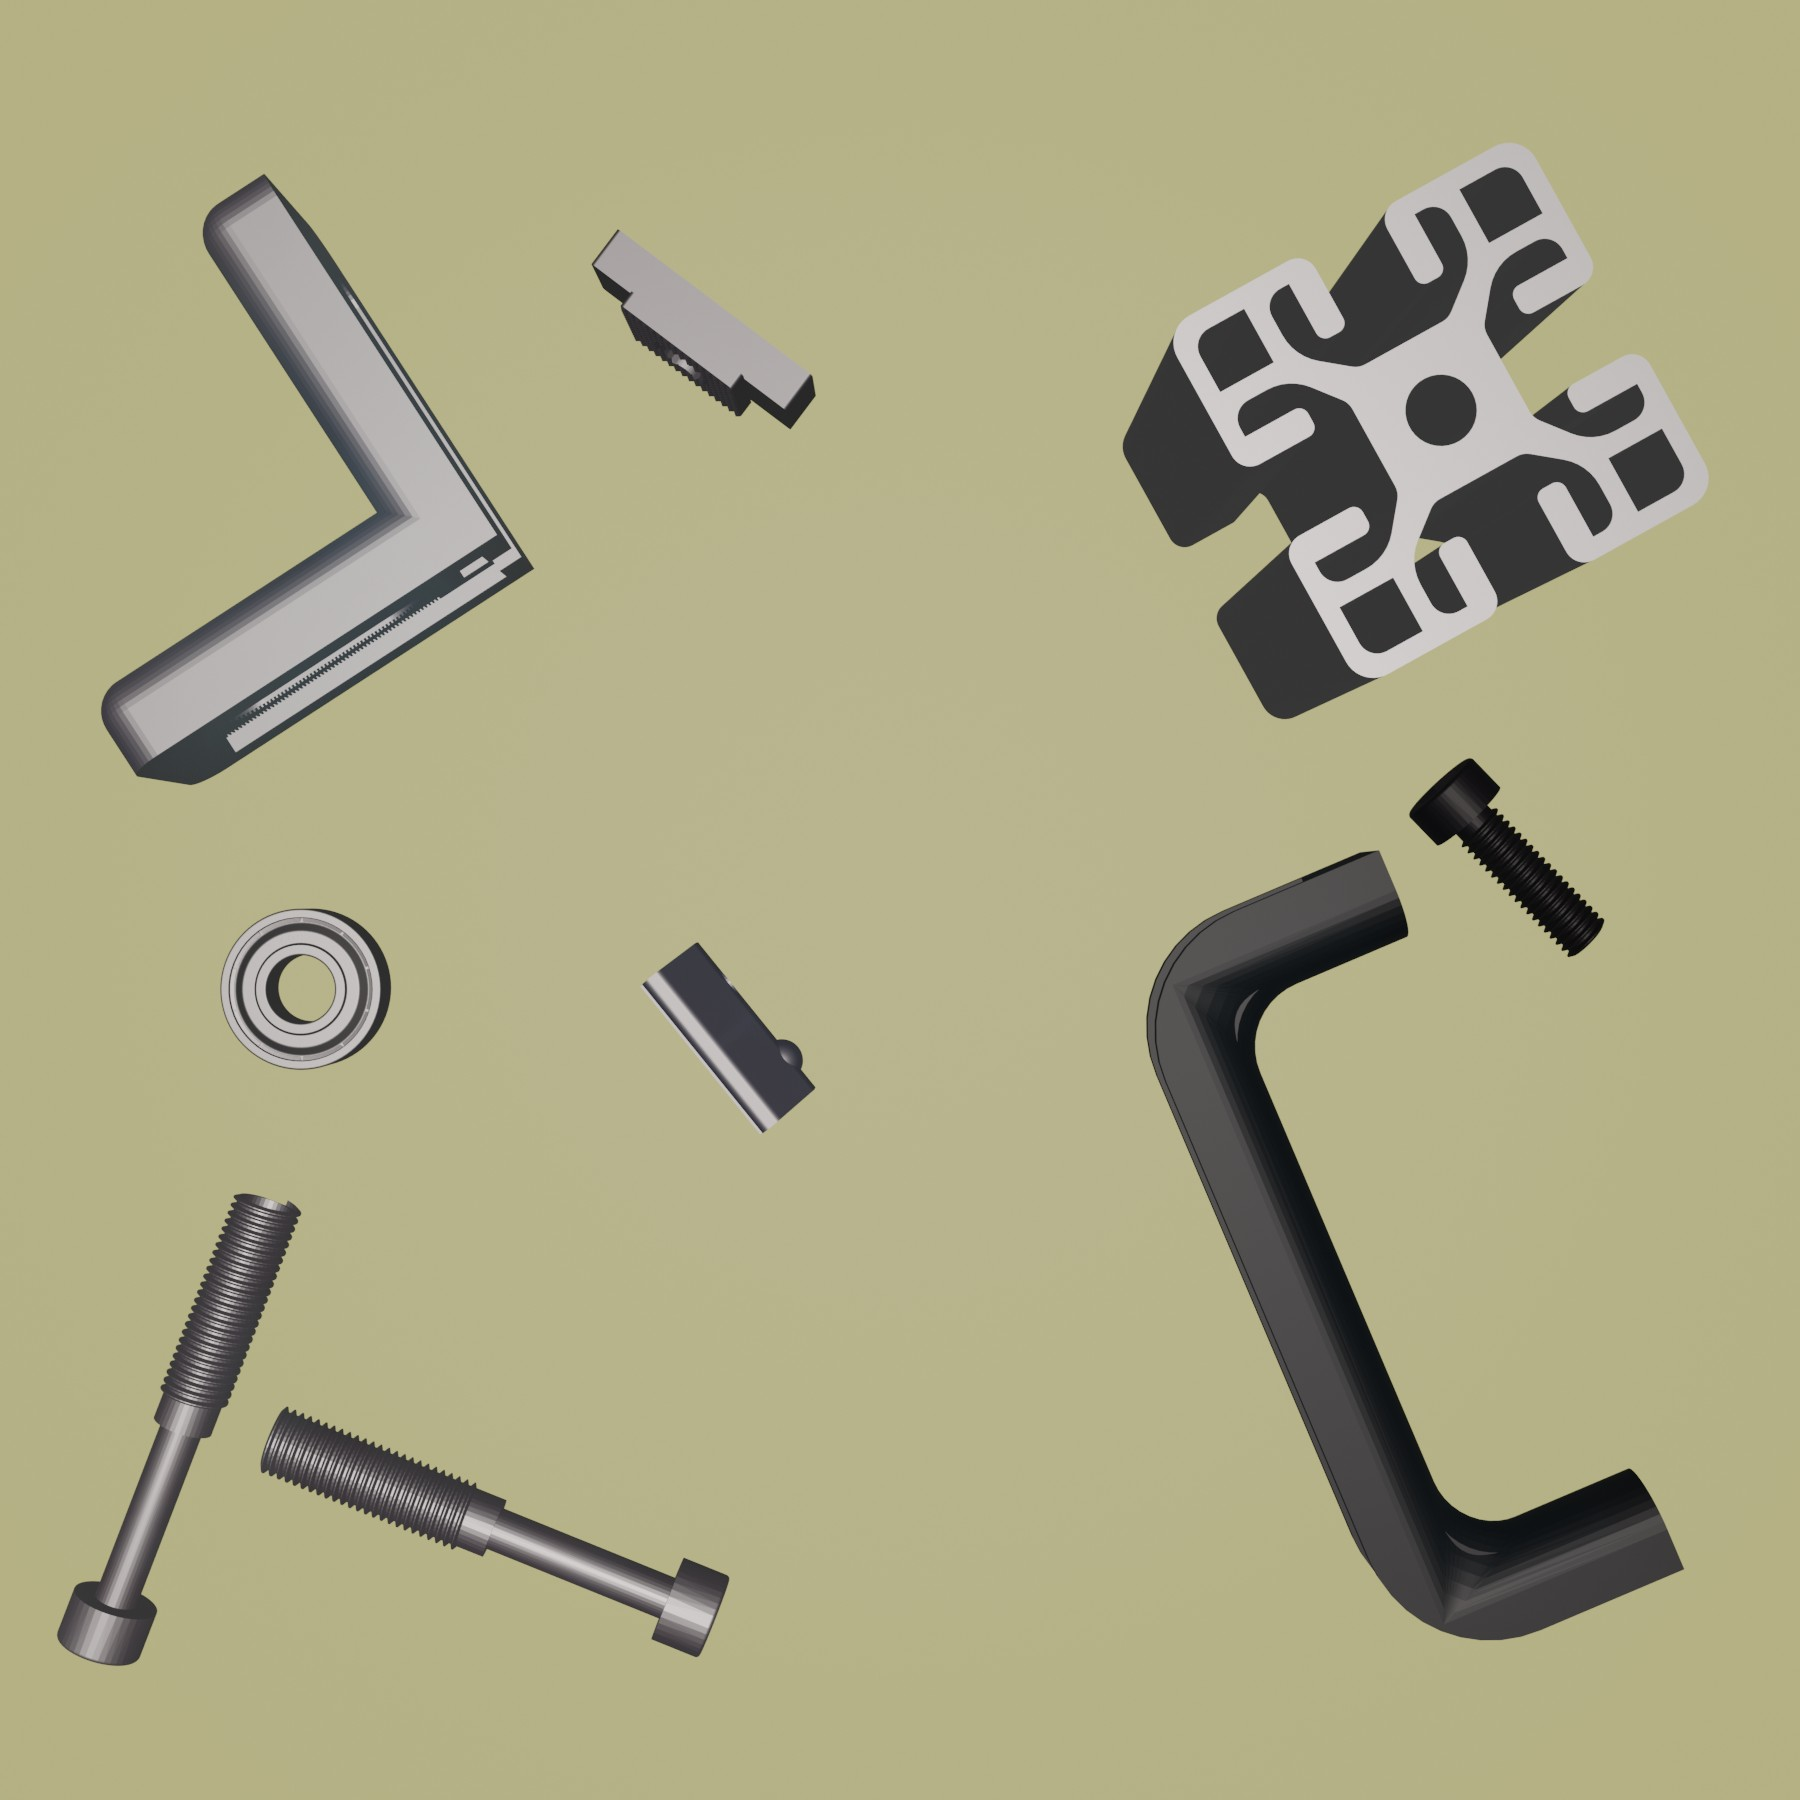Aluminium Extension: (1119, 138, 1713, 722)
Ball Bearing: (218, 903, 392, 1075)
Multiwinkel: (101, 171, 536, 790)
Pull Handle: (1142, 847, 1685, 1642)
Shoulder Socket Head Cap Screw: (255, 1404, 730, 1658), (54, 1188, 303, 1668)
Socket Head Cap Screw: (1404, 753, 1605, 958)
T Nut Square: (590, 224, 819, 430)
T Spring Nut: (640, 940, 818, 1137)
